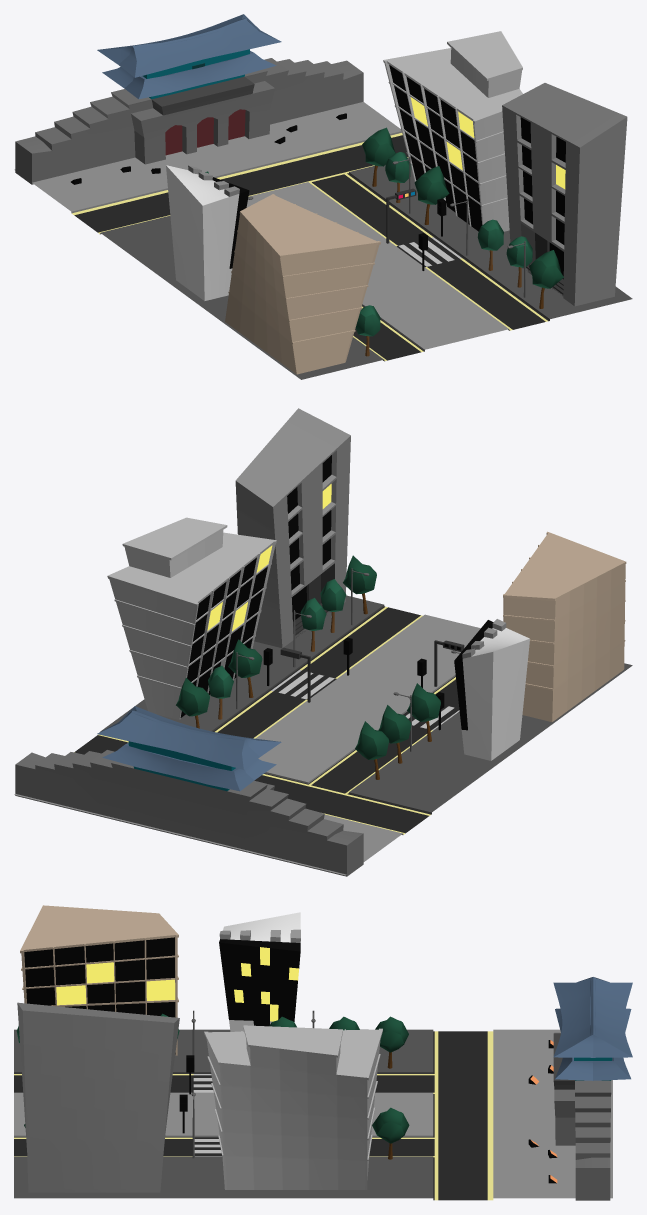
Rendered from Block_04.fbx.
3 renders of one model, top to bottom at view 1: azimuth 30°, elevation 25°; view 2: azimuth 150°, elevation 25°; view 3: azimuth 270°, elevation 25°, orthographic. The views are drawn at different scales.
Parts seen in each view (by area): view 1: Block_04; view 2: Block_04; view 3: Block_04.
Boxes of the visible parts, <box> form: Block_04: <box>14,14,632,379</box>; Block_04: <box>14,408,632,876</box>; Block_04: <box>14,905,632,1200</box>.
Bounding box in the file's own units: 2188 × 1047 × 3100.
2 materials, 1 textured.
